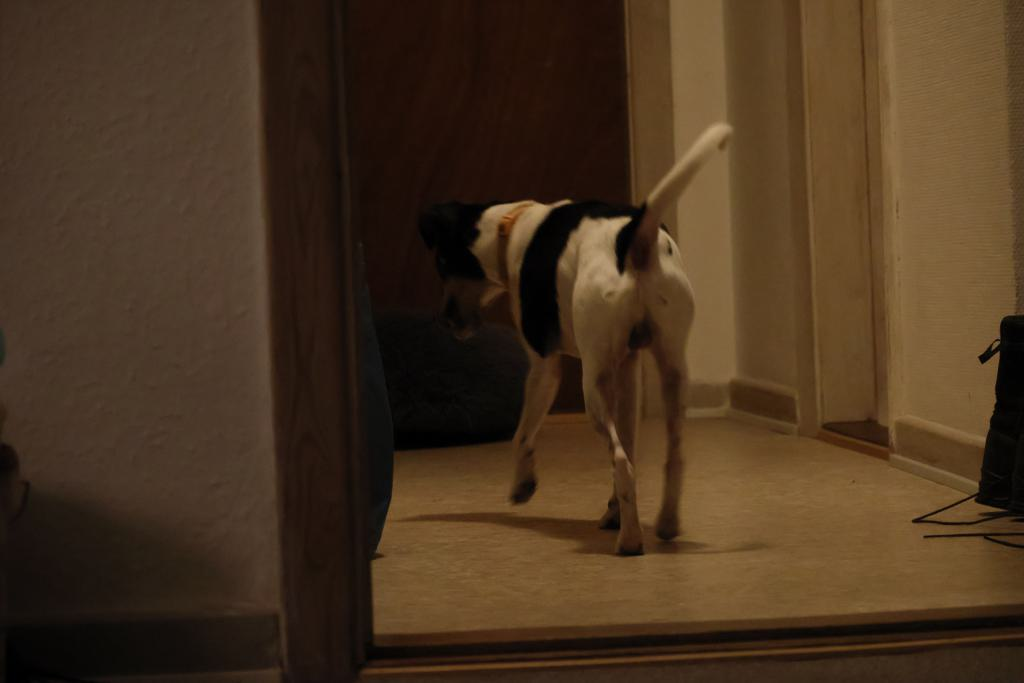Dog: (410, 116, 737, 563)
